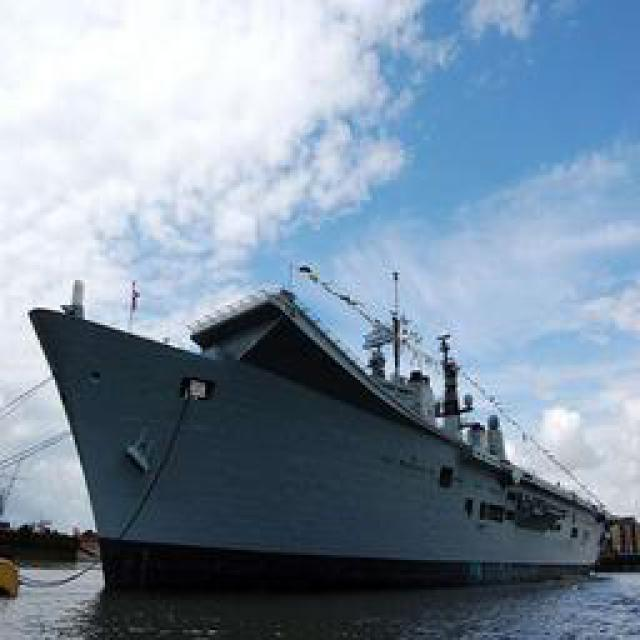Ship: (24, 249, 626, 594)
